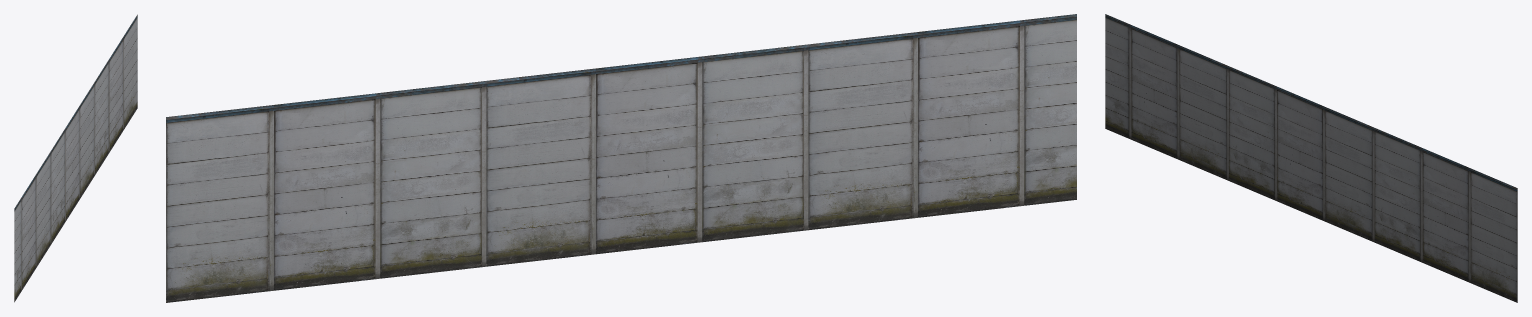
File: Outer_Fence_Corner_Mobile.fbx
3 views of the same model, side by side, from view 1: azimuth 30°, elevation 25°; view 2: azimuth 150°, elevation 25°; view 3: azimuth 270°, elevation 25° (orthographic). The views are drawn at different scales.
Visible parts, largest first — view 1: Outer_Fence_Corner_Mobile; view 2: Outer_Fence_Corner_Mobile; view 3: Outer_Fence_Corner_Mobile.
Boxes of the visible parts, box(x1,y1,x2,y2) form: Outer_Fence_Corner_Mobile: box(14, 14, 137, 302); Outer_Fence_Corner_Mobile: box(166, 14, 1076, 302); Outer_Fence_Corner_Mobile: box(1105, 14, 1517, 302).
Size of the model in its own units: 20 by 6.15 by 20.
